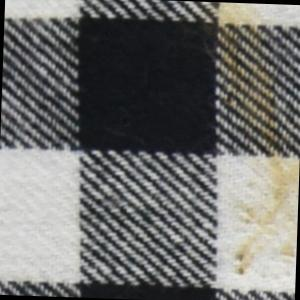Oil Stain: (184, 2, 300, 278)
